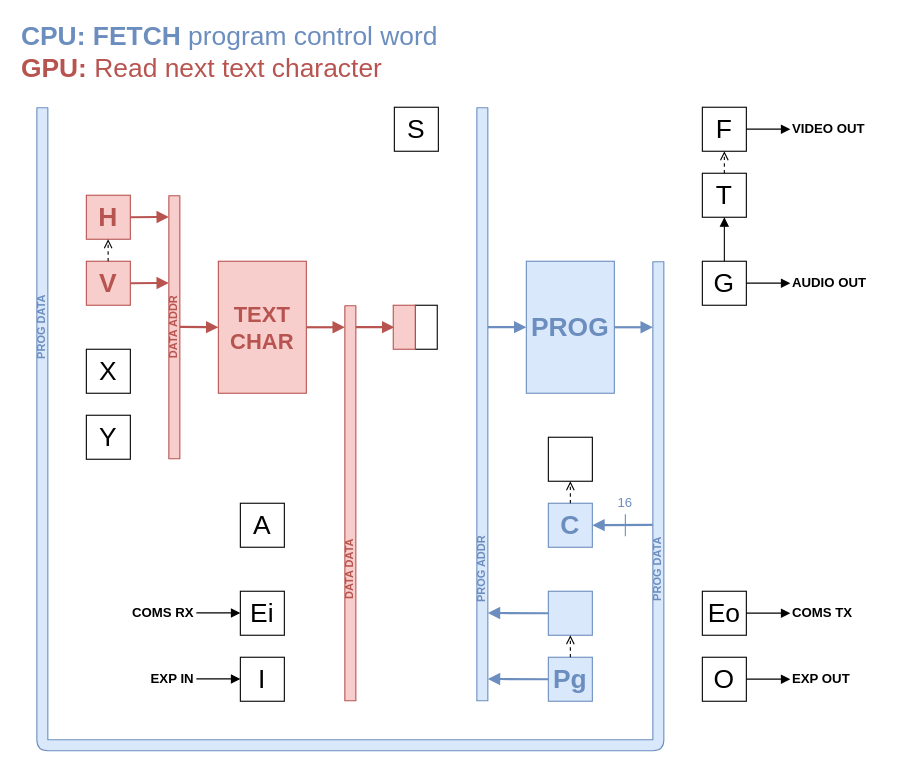
Some shapes in this 897 by 770 pixel diagram are drawn without their labels. The shapes that lost their labels are listed below. From the top down, each one's centre as x and y in pixels, then its label:
At [569,458]: "HL".
At [569,612]: "PC".
